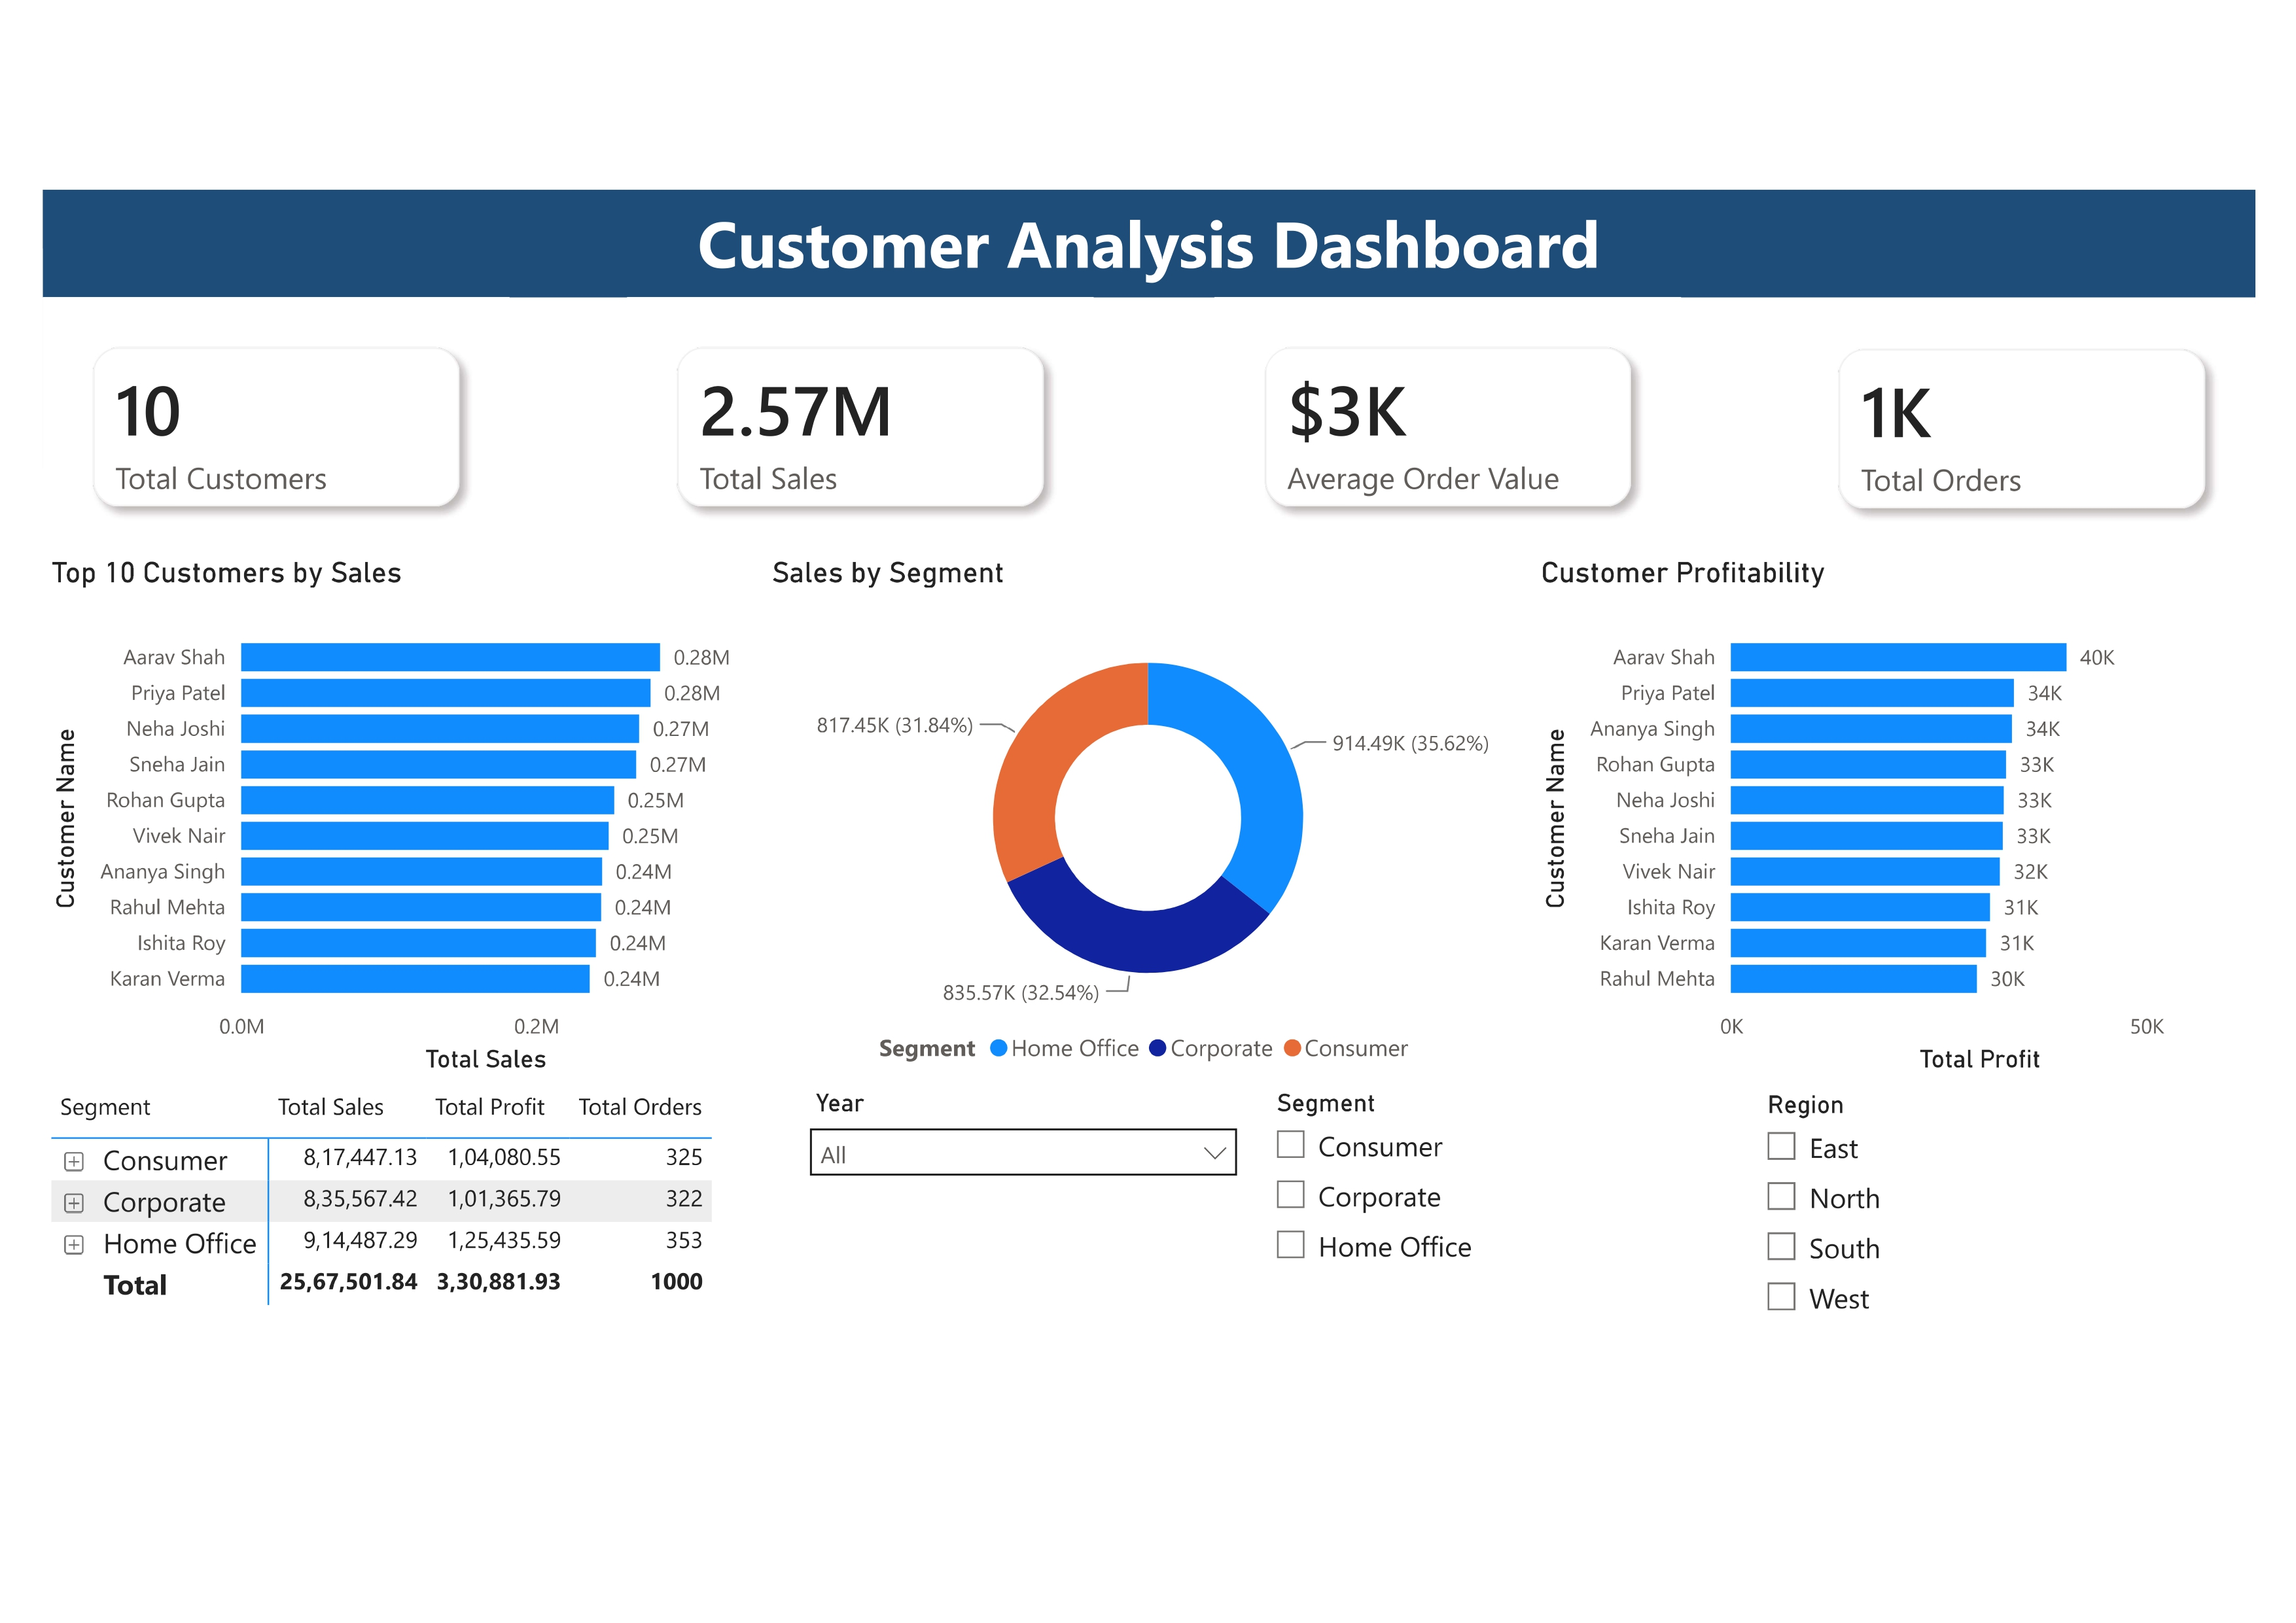

This screenshot's page, from the dashboard's own definition file:
{"tool":"powerbi","page":{"name":"Customer Analysis","canvas":[1280,720],"ordinal":2},"visuals":[{"type":"textbox","box":[0,0,1280.3,61.7],"z":0},{"type":"cardVisual","fields":{"Data":["Orders.Total Customers"]},"box":[0,61.7,270,150],"z":1000},{"type":"cardVisual","fields":{"Data":["Orders.Total Sales"]},"box":[337.6,61.7,270,150],"z":2000},{"type":"cardVisual","fields":{"Data":["Orders.Average Order Value"]},"box":[677.9,61.7,270,150],"z":3000},{"type":"cardVisual","fields":{"Data":["Orders.Total Orders"]},"box":[1010,63.1,270,149.6],"z":4000},{"type":"clusteredBarChart","title":"Top 10 Customers by Sales","fields":{"Category":["Orders.Customer Name"],"Y":["Orders.Total Sales"]},"box":[0,211.3,417.2,304.6],"z":5000},{"type":"donutChart","title":"Sales by Segment","fields":{"Category":["Orders.Segment"],"Y":["Orders.Total Sales"]},"box":[417.2,211.3,444.6,303.3],"z":6000},{"type":"clusteredBarChart","title":"Customer Profitability","fields":{"Category":["Orders.Customer Name"],"Y":["Orders.Total Profit"]},"box":[861.8,211.3,418.5,304.6],"z":7000},{"type":"pivotTable","fields":{"Rows":["Orders.Segment","Orders.Customer Name"],"Values":["Orders.Total Sales","Orders.Total Profit","Orders.Total Orders"]},"box":[0,514.6,433.6,205.8],"z":8000},{"type":"slicer","fields":{"Values":["Calendar.Year"]},"box":[433.6,514.6,267.6,205.8],"z":9000},{"type":"slicer","fields":{"Values":["Orders.Region"]},"box":[985.3,516,295,204.5],"z":10000},{"type":"slicer","fields":{"Values":["Orders.Segment"]},"box":[701.2,514.6,284,204.5],"z":11000}]}

Visuals, with their boxes on the page's 1280x720 design canvas (x1, y1, x2, y2). These are canvas units, not pixel positions in the 2296x1623 screenshot, which may show the page scaled, cropped or inside an application window:
textbox: (left=0, top=0, right=1280, bottom=62)
cardVisual - Orders.Total Customers: (left=0, top=62, right=270, bottom=212)
cardVisual - Orders.Total Sales: (left=338, top=62, right=608, bottom=212)
cardVisual - Orders.Average Order Value: (left=678, top=62, right=948, bottom=212)
cardVisual - Orders.Total Orders: (left=1010, top=63, right=1280, bottom=213)
"Top 10 Customers by Sales" clusteredBarChart: (left=0, top=211, right=417, bottom=516)
"Sales by Segment" donutChart: (left=417, top=211, right=862, bottom=515)
"Customer Profitability" clusteredBarChart: (left=862, top=211, right=1280, bottom=516)
pivotTable - Orders.Segment x Orders.Customer Name: (left=0, top=515, right=434, bottom=720)
slicer - Calendar.Year: (left=434, top=515, right=701, bottom=720)
slicer - Orders.Region: (left=985, top=516, right=1280, bottom=720)
slicer - Orders.Segment: (left=701, top=515, right=985, bottom=719)
